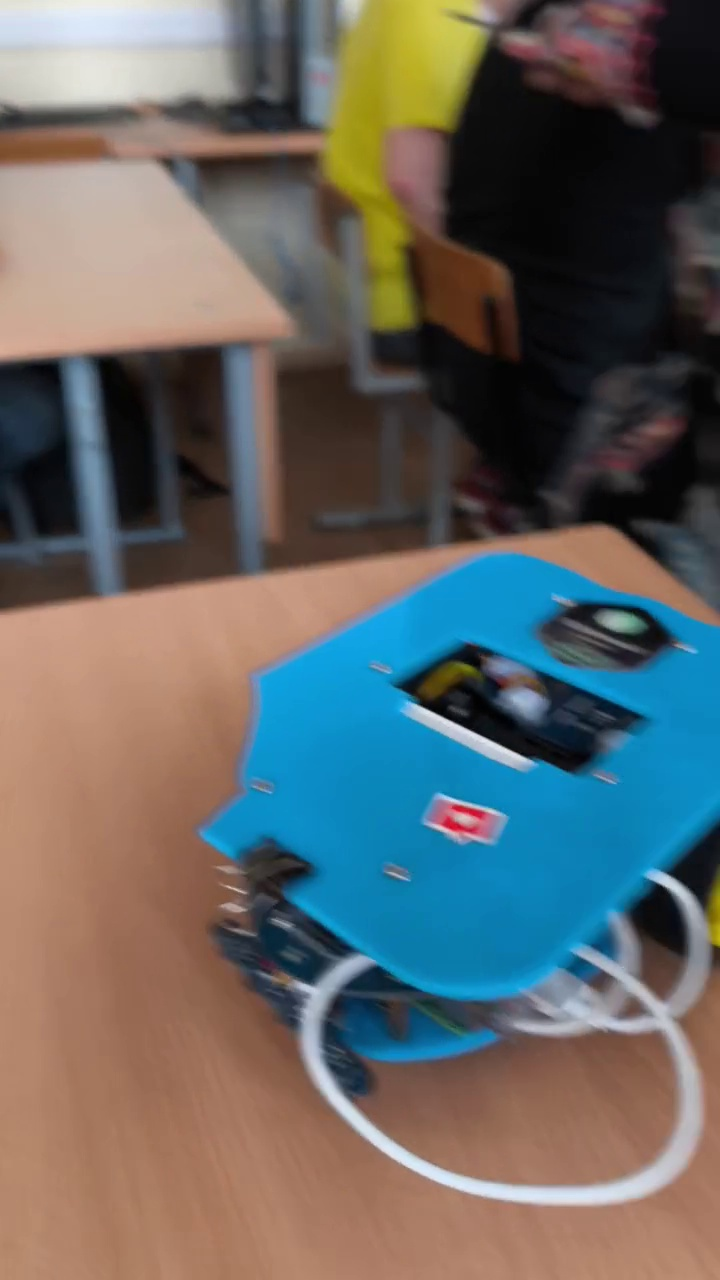robot: (195, 546, 720, 1207)
